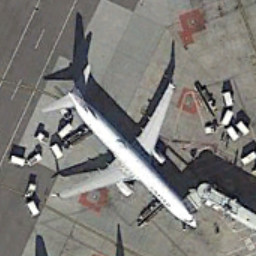Airplane: (40, 58, 202, 232)
